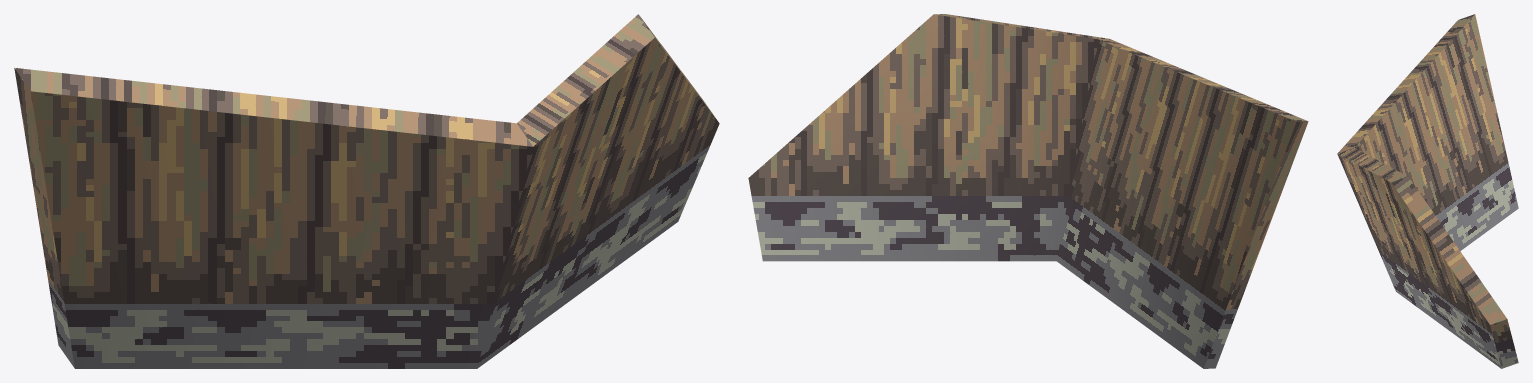
Rendered from barrel_gib_05__lower_rim.glb.
3 renders of one model, left to right at view 1: azimuth 30°, elevation 25°; view 2: azimuth 150°, elevation 25°; view 3: azimuth 270°, elevation 25°, orthographic. The views are drawn at different scales.
Visible parts, largest first — view 1: gib#3; view 2: gib#3; view 3: gib#3.
Boxes of the visible parts, x1,y1,x2,y2 form: gib#3: (14,14,719,368); gib#3: (748,14,1308,368); gib#3: (1337,14,1518,368).
Bounding box in the file's own units: 1 × 0.4523 × 0.4167.
Materials: 1 (1 with a texture image).
